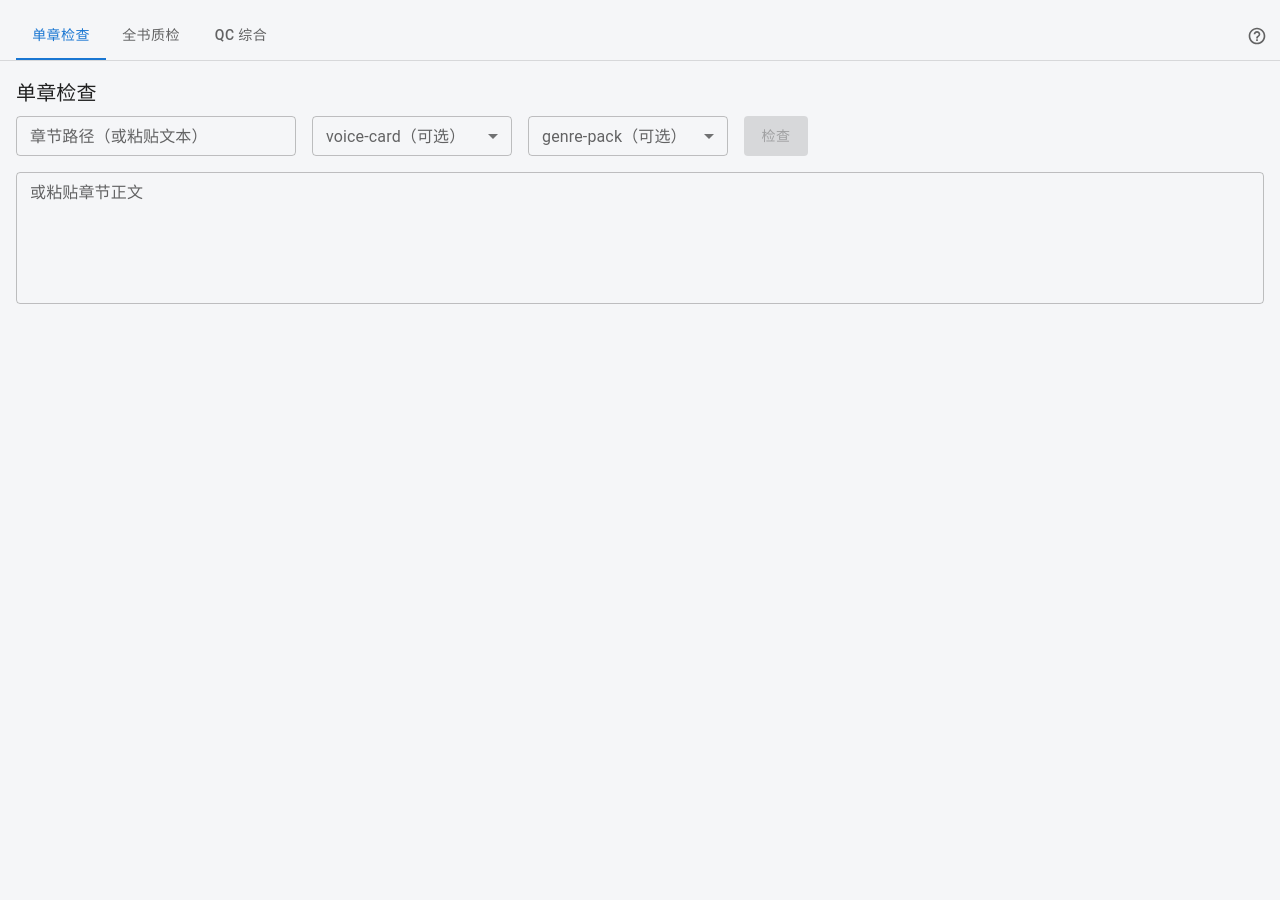
Scenario: BookQualityPanel 截断提示 › 50 条且响应被截断时，展开渲染 50 行，提示仍保留响应上限指引
Click the tab "全书质检" at (151, 36), box [106,12,196,60]
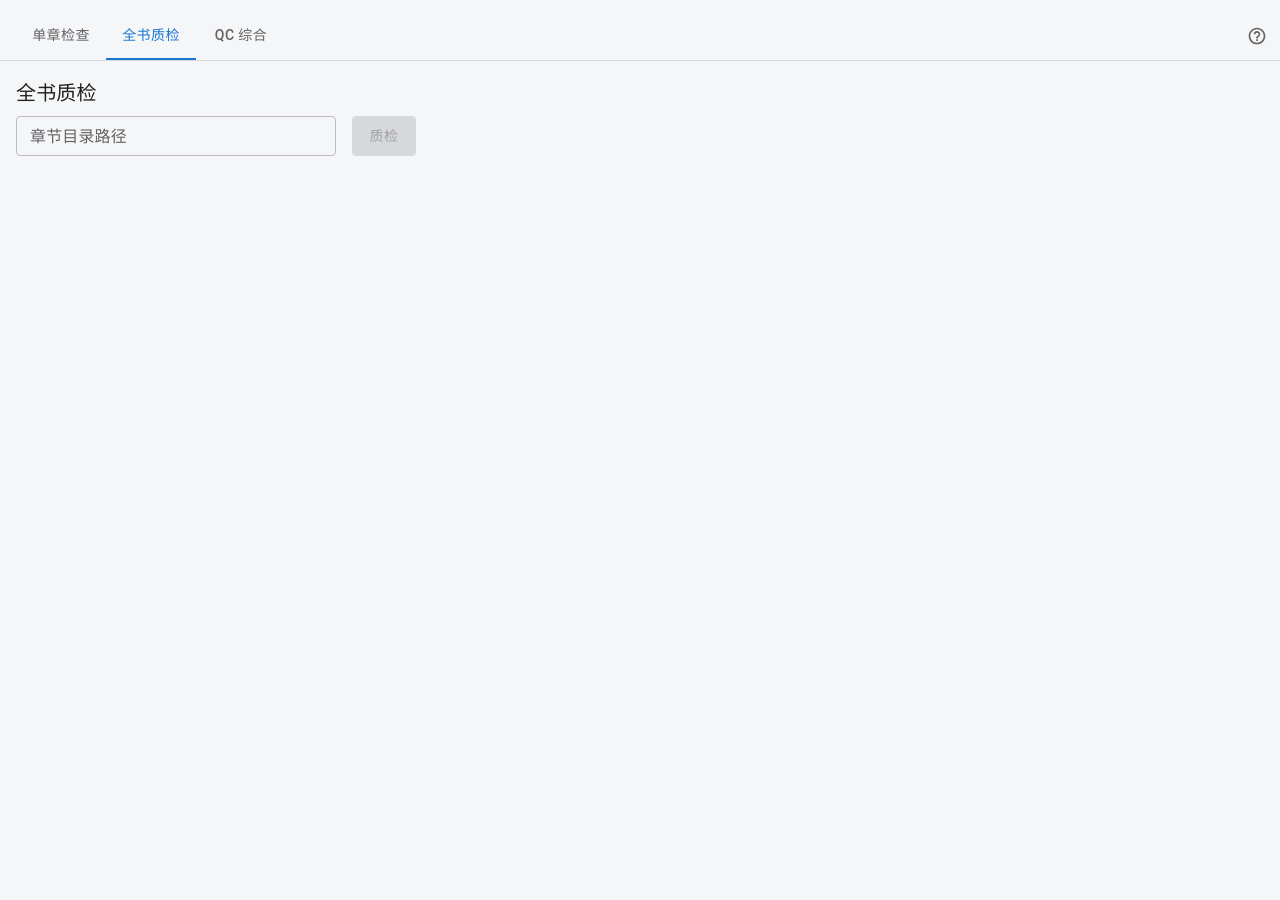
Type "chapters" into the field labelled "章节目录路径" at (176, 136), box [16,116,336,156]
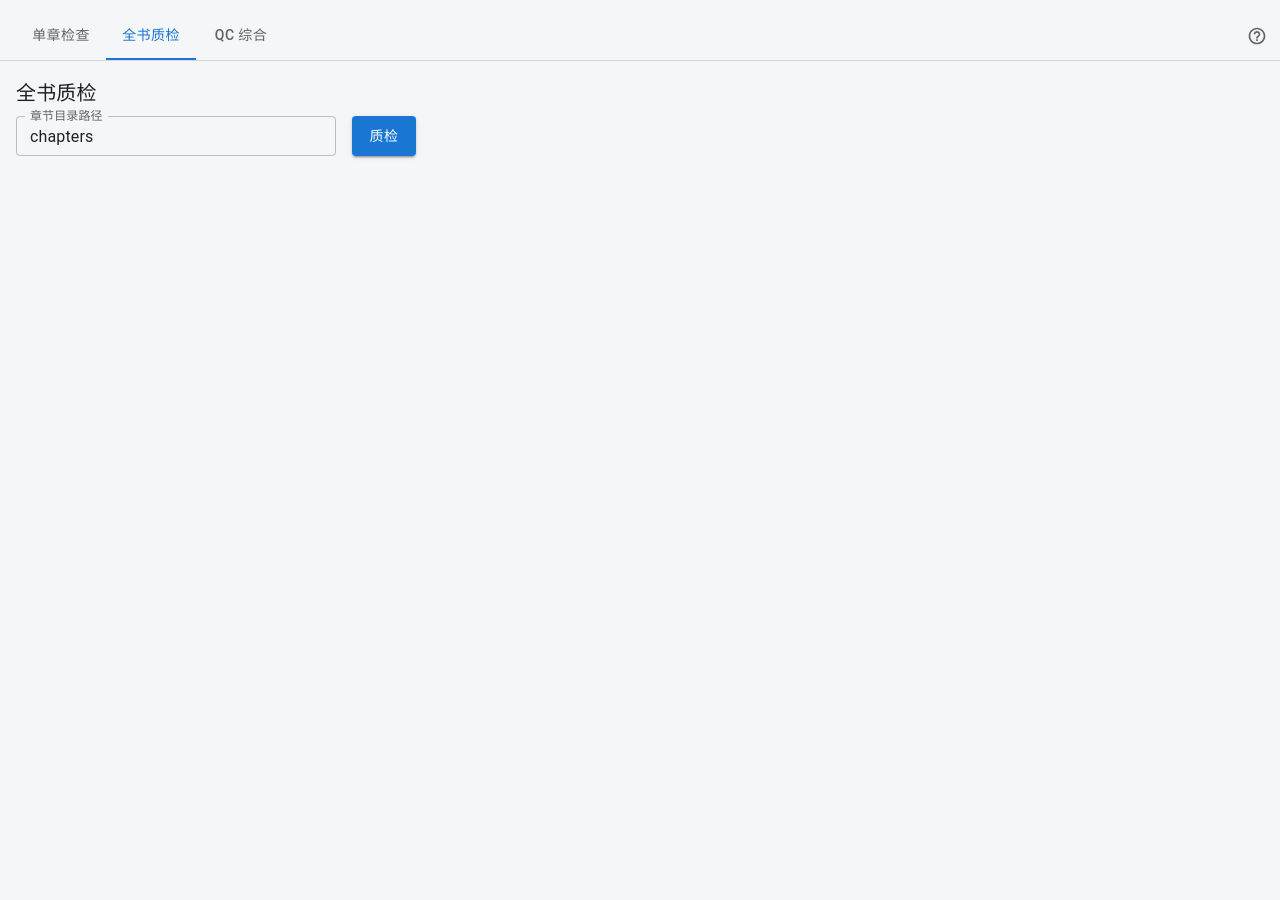
Click the button "质检" at (384, 136), box [352,116,416,156]
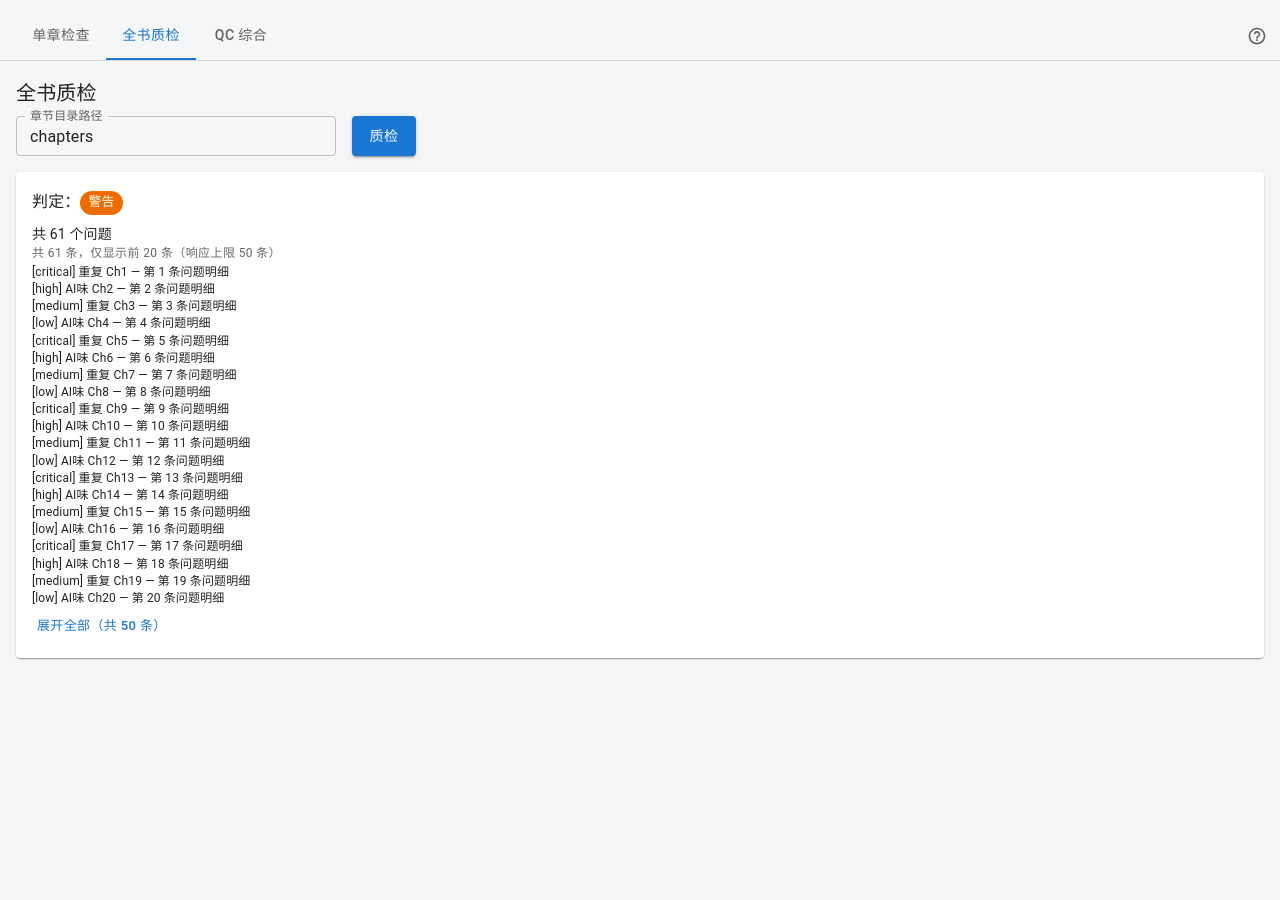
Result: the text "共 61 个问题" is shown at [32,226,112,242]
Result: the text "[critical] 重复 Ch1 — 第 1 条问题明细" is shown 20 times
Click the button "展开全部（共 50 条）" at (102, 626), box [32,611,172,642]
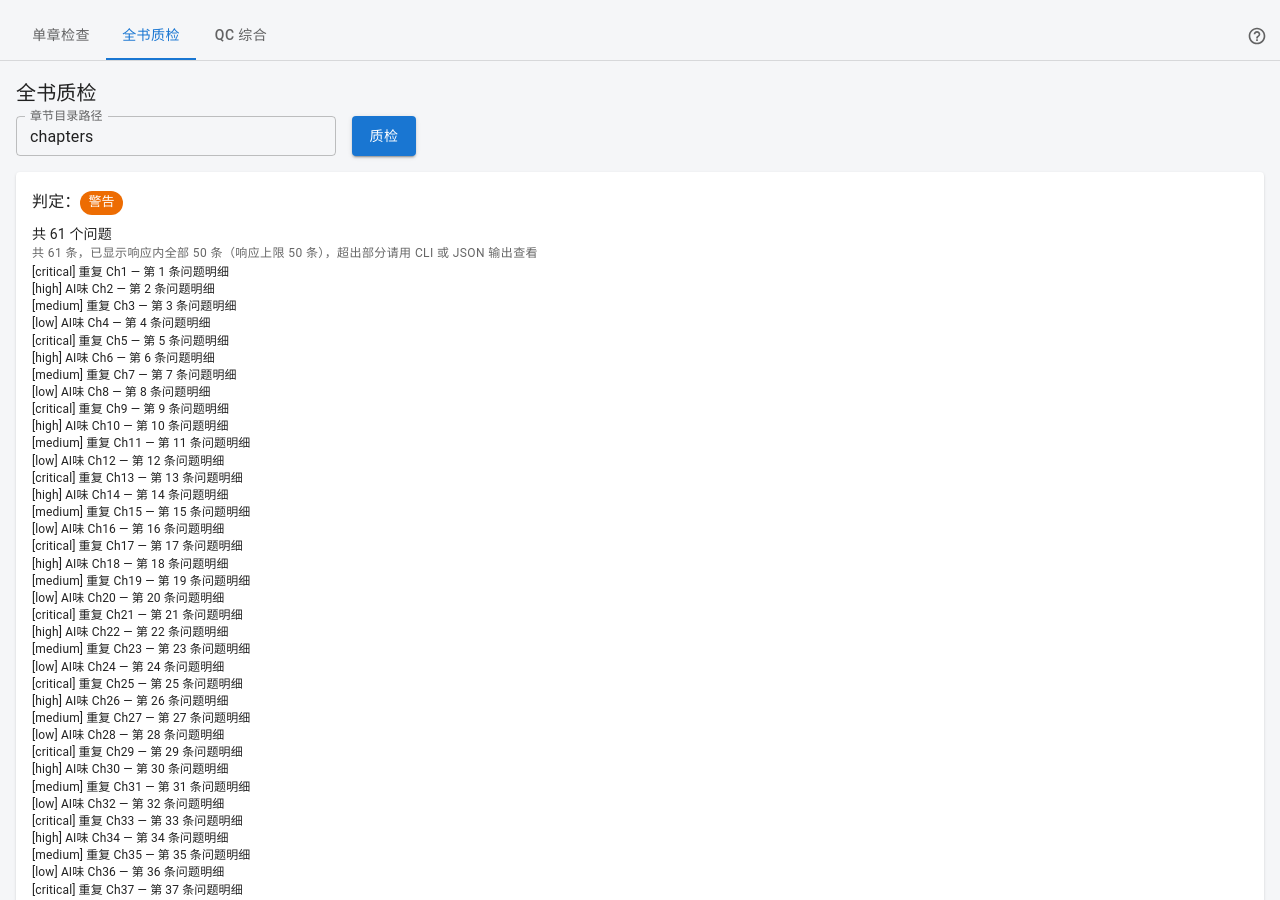
Result: the text "共 61 条，已显示响应内全部 50 条（响应上限 50 条），超出部分请用 CLI 或 JSON 输出查看" is shown at [32,246,538,260]
Result: the text "仅显示前" is gone
